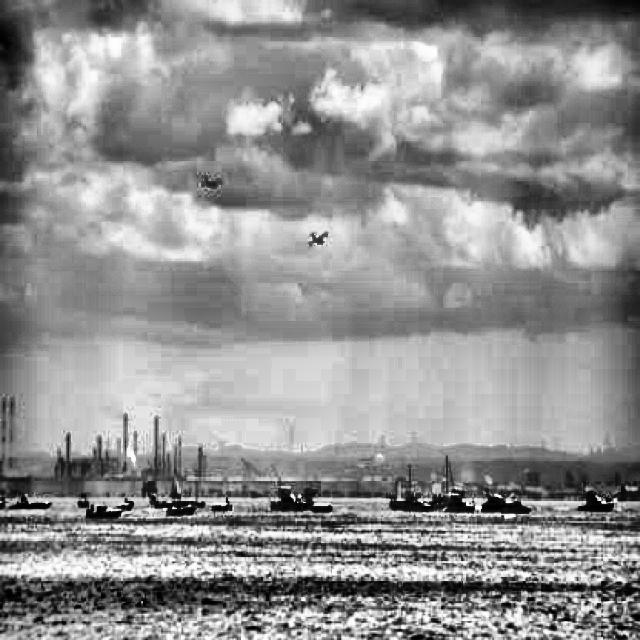US2: (307, 230, 328, 248), (199, 174, 224, 188)
